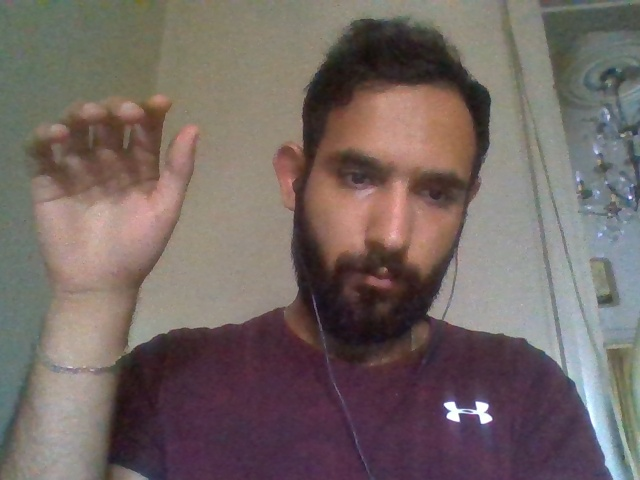Snake: (9, 76, 251, 480)
